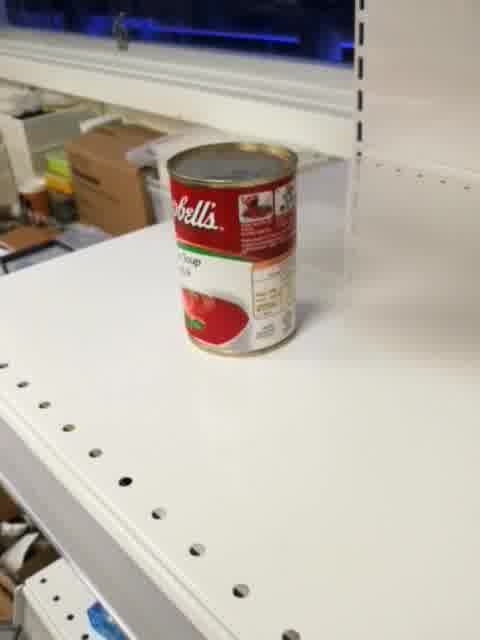tomatosoup: (165, 139, 301, 359)
